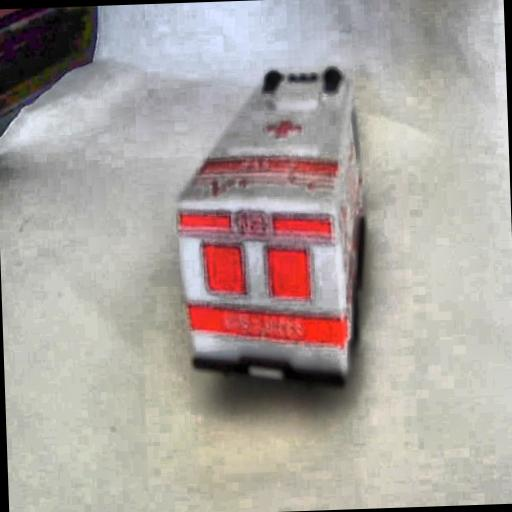ambulance: (170, 64, 372, 391)
